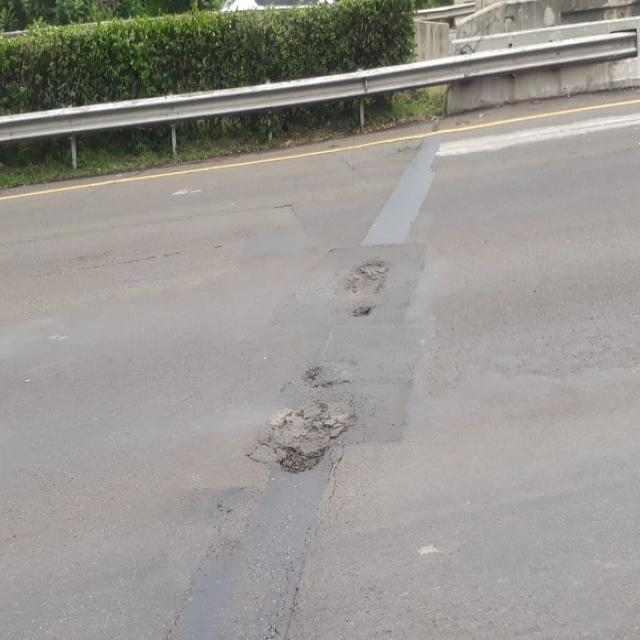Buraco: (239, 394, 361, 477), (342, 258, 394, 300), (298, 363, 353, 392), (349, 304, 379, 320)
